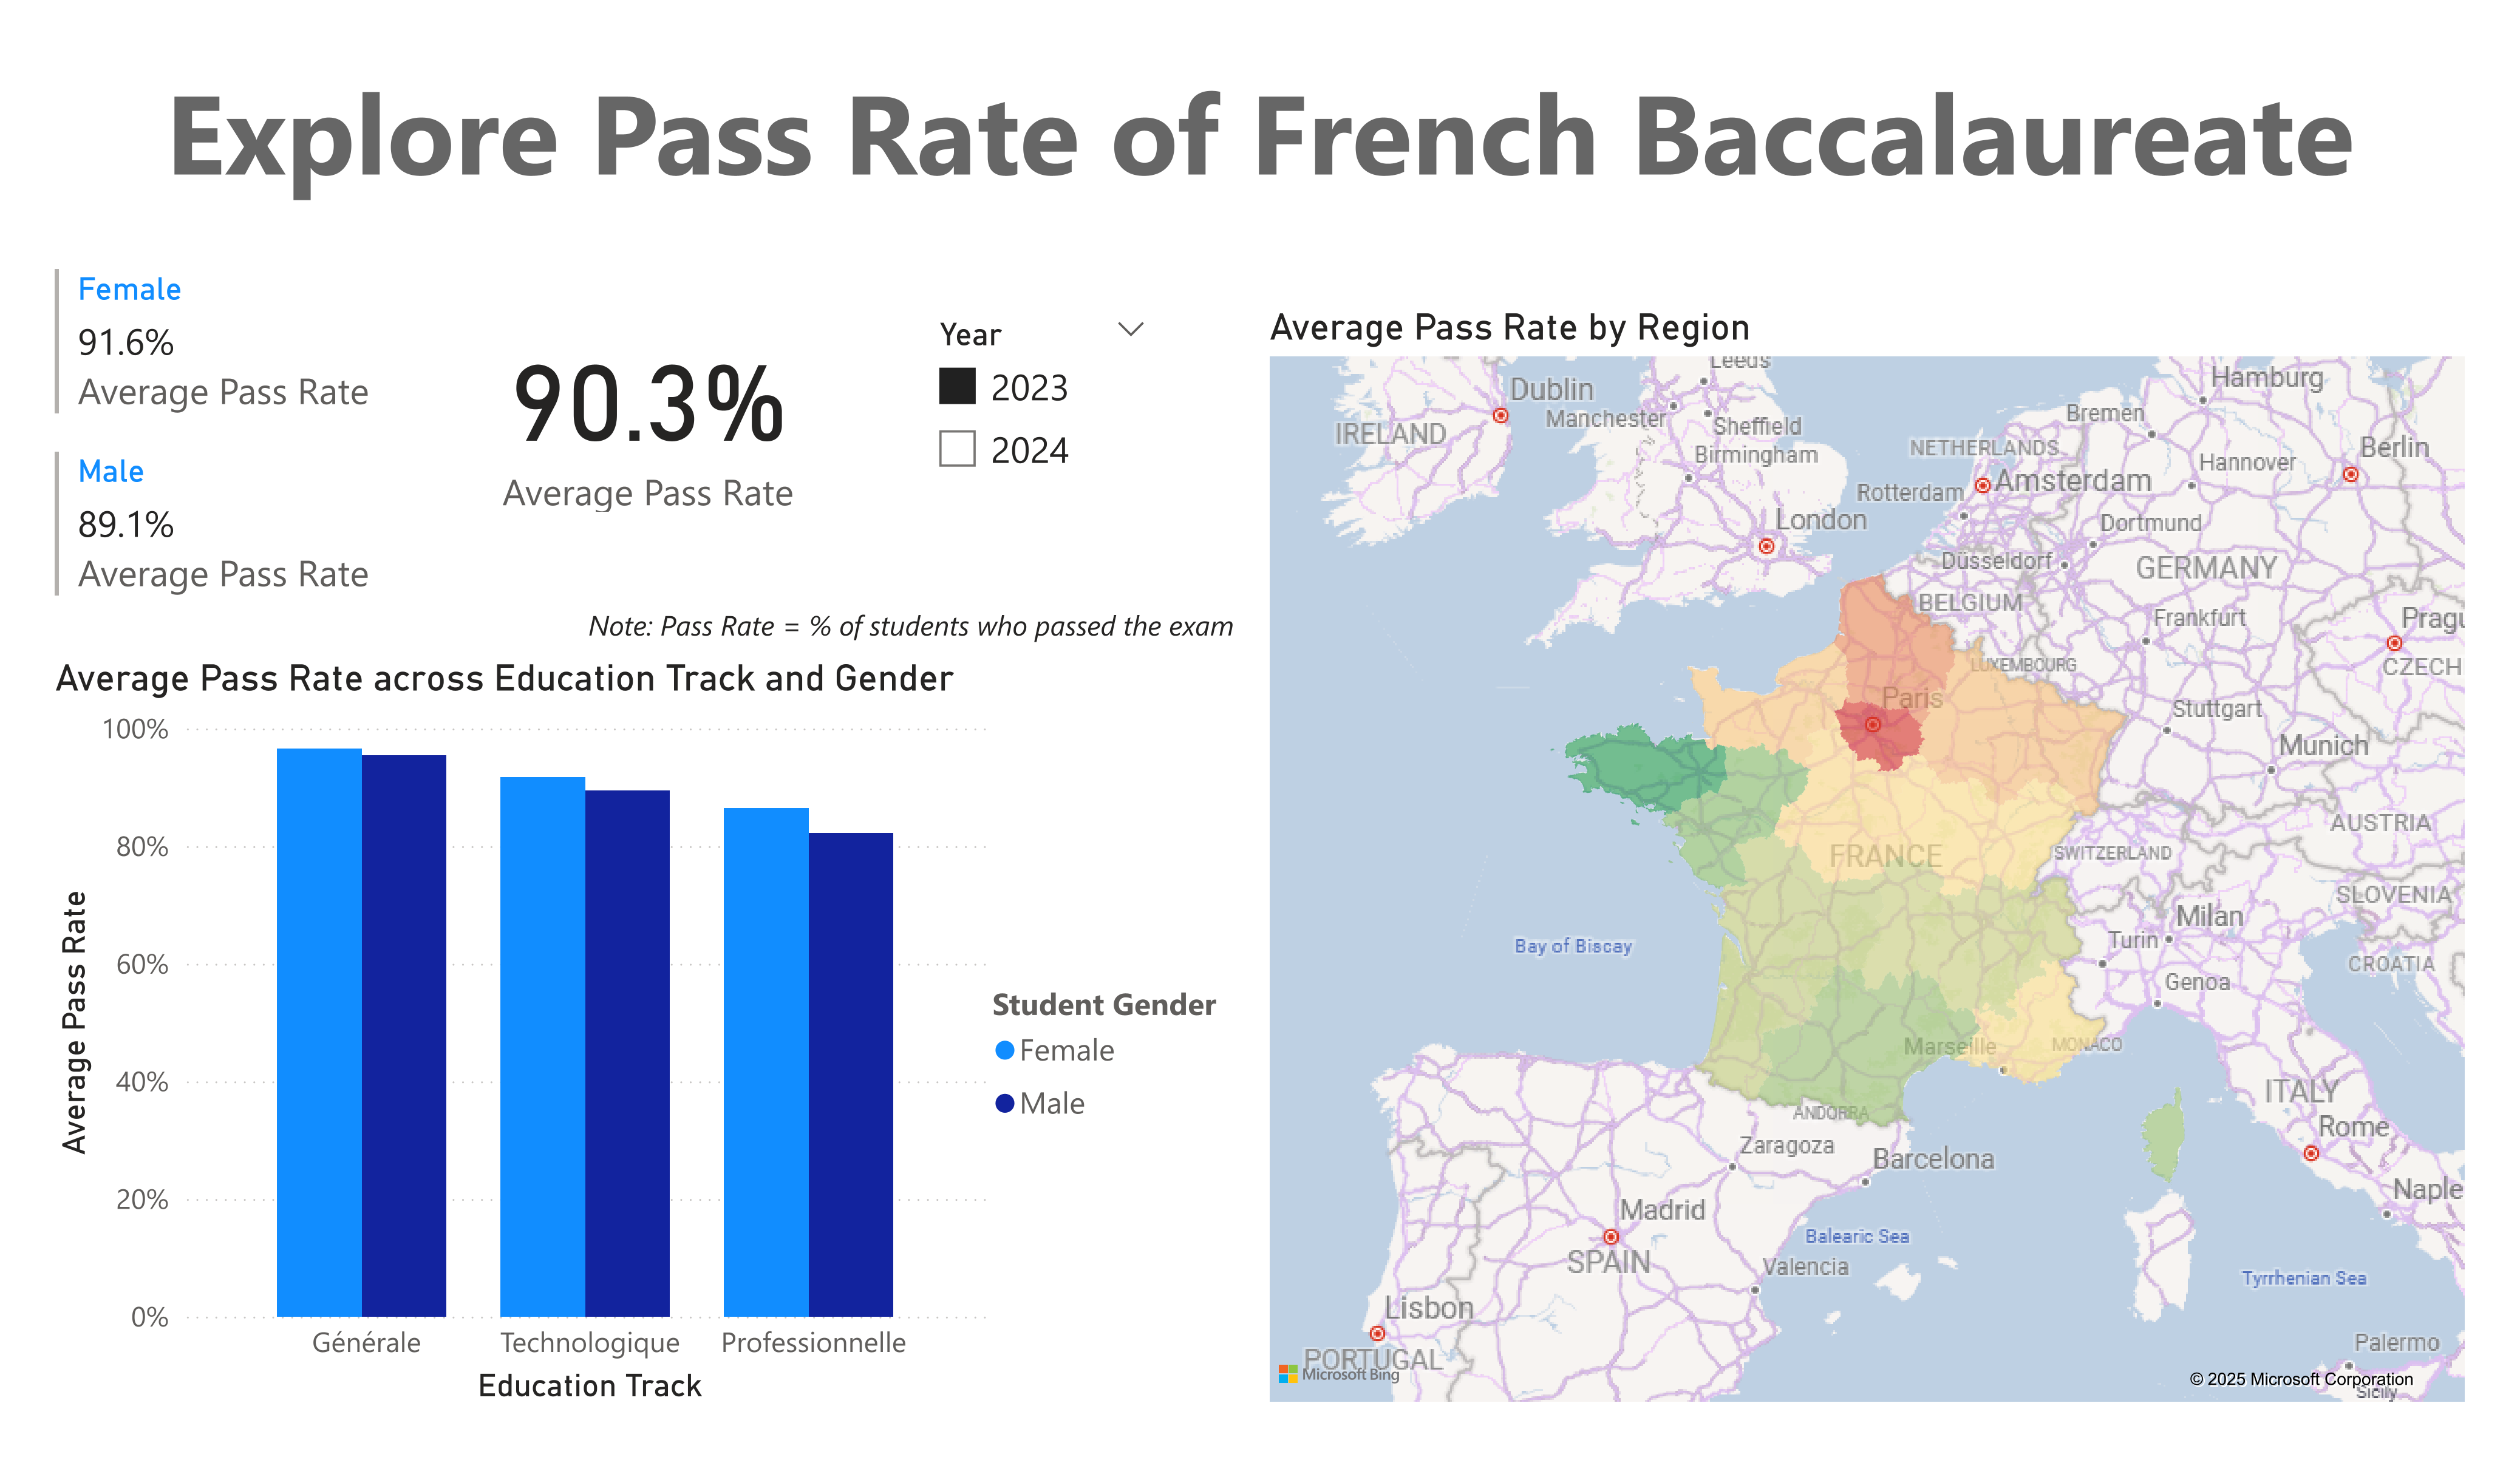

This screenshot's page, from the dashboard's own definition file:
{"tool":"powerbi","page":{"name":"pass_rate","canvas":[1280,720],"ordinal":0},"visuals":[{"type":"multiRowCard","fields":{"Values":["Avg(success_rate.pass_rate_baccalaureate)","success_rate.student_gender"]},"box":[0,113,198.4,209.6],"z":0},{"type":"slicer","fields":{"Values":["success_rate.year"]},"box":[458.3,137.1,133.2,113.6],"z":1000},{"type":"clusteredColumnChart","title":"Average Pass Rate across Education Track and Gender","fields":{"Category":["success_rate.education_track"],"Series":["success_rate.student_gender"],"Y":["Avg(success_rate.pass_rate_baccalaureate)"]},"box":[0,322.5,639.4,397.5],"z":2000},{"type":"filledMap","title":"Average Pass Rate by Region","fields":{"Category":["department.location_hierarchy.region_name","department.location_hierarchy.department"]},"box":[640.2,137.3,640.2,582.7],"z":3000},{"type":"textbox","box":[0,0,1280,96.6],"z":4000},{"type":"card","fields":{"Values":["Avg(success_rate.pass_rate_baccalaureate)"]},"box":[198.8,137.1,237,113.6],"z":5000},{"type":"textbox","box":[281.2,288.9,358,33.6],"z":6000}]}

Visuals, with their boxes on the page's 1280x720 design canvas (x1, y1, x2, y2). These are canvas units, not pixel positions in the 2520x1457 screenshot, which may show the page scaled, cropped or inside an application window:
multiRowCard - Avg(success_rate.pass_rate_baccalaureate) x success_rate.student_gender: bbox(0, 113, 198, 323)
slicer - success_rate.year: bbox(458, 137, 592, 251)
"Average Pass Rate across Education Track and Gender" clusteredColumnChart: bbox(0, 322, 639, 720)
"Average Pass Rate by Region" filledMap: bbox(640, 137, 1280, 720)
textbox: bbox(0, 0, 1280, 97)
card - Avg(success_rate.pass_rate_baccalaureate): bbox(199, 137, 436, 251)
textbox: bbox(281, 289, 639, 322)
